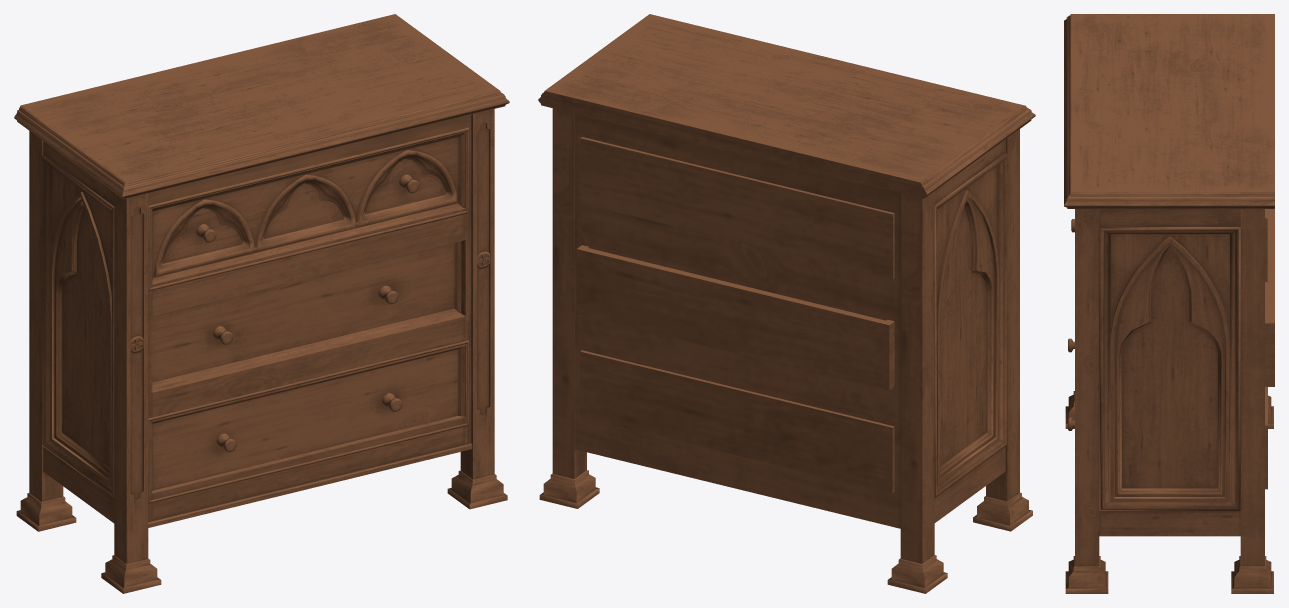
Rendered from dresser-carved.glb.
The picture shows the model from 3 angles, left to right: view 1: azimuth 30°, elevation 25°; view 2: azimuth 150°, elevation 25°; view 3: azimuth 270°, elevation 25°; orthographic projection. The views are drawn at different scales.
Visible parts, largest first — view 1: GothicCommode_01; view 2: GothicCommode_01; view 3: GothicCommode_01.
Part boxes in pixels (left/top/right/bottom): GothicCommode_01: left=14, top=14, right=509, bottom=593; GothicCommode_01: left=538, top=14, right=1035, bottom=593; GothicCommode_01: left=1064, top=14, right=1274, bottom=593.
Size of the model in its own units: 1.2 by 1.21 by 0.5807.
Materials: 1 (1 with a texture image).
